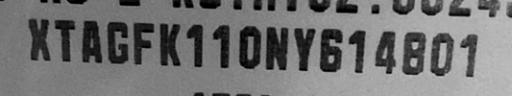letter: (264, 24, 292, 70), (131, 18, 159, 62), (290, 25, 318, 69), (371, 27, 399, 71), (206, 20, 232, 67), (319, 24, 345, 71), (427, 31, 455, 74), (26, 17, 52, 62), (106, 18, 132, 63), (236, 23, 262, 68), (400, 28, 426, 72), (159, 19, 183, 66), (456, 30, 482, 72), (54, 17, 78, 62), (80, 17, 104, 62), (184, 21, 206, 68), (346, 25, 368, 71)
